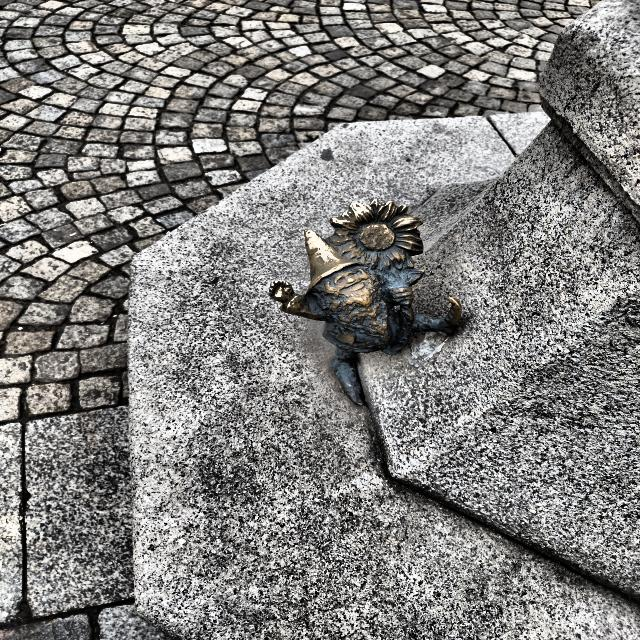Zyczliwek: (270, 200, 460, 404)
